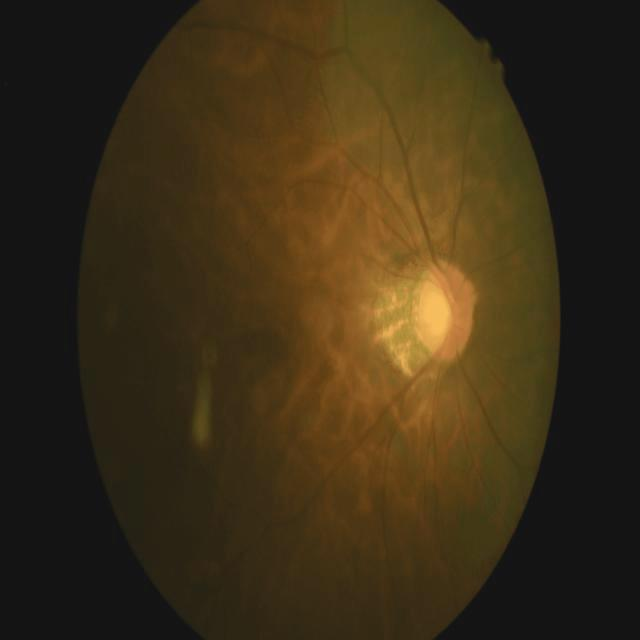cup: (422, 278, 462, 346)
disk: (417, 262, 478, 364)
